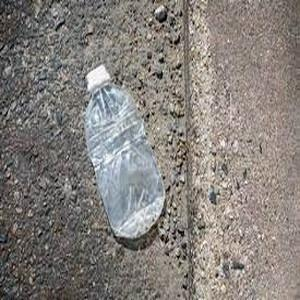Plastic: (80, 62, 177, 245)
